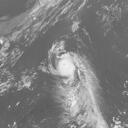cyclone: (47, 41, 94, 93)
